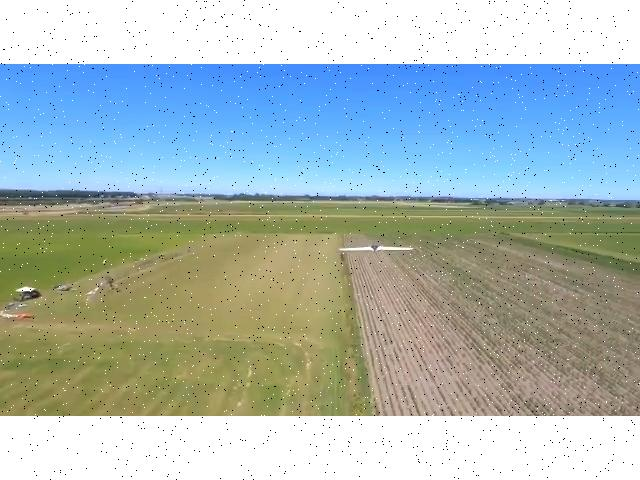Anti-Drone: (323, 232, 429, 268)
